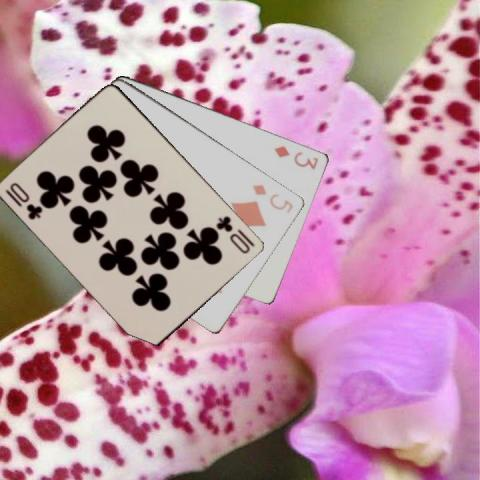10c: (213, 213, 257, 255), (3, 180, 44, 222)
3d: (271, 142, 320, 170)
5d: (250, 181, 296, 215)
